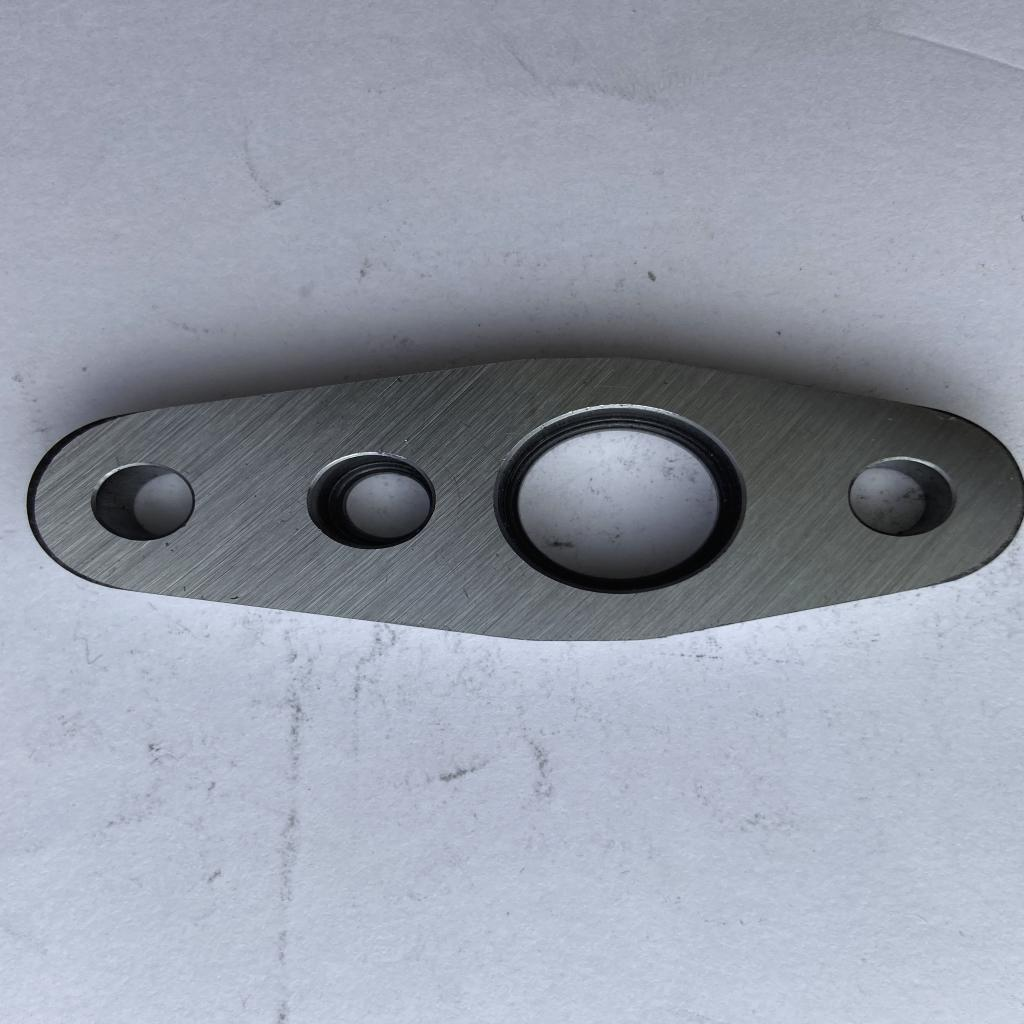chap: (227, 593, 245, 602), (943, 414, 960, 422)
